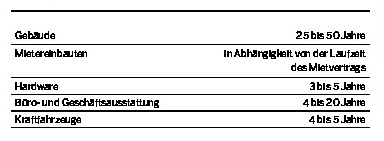table: (0, 0, 384, 141)
